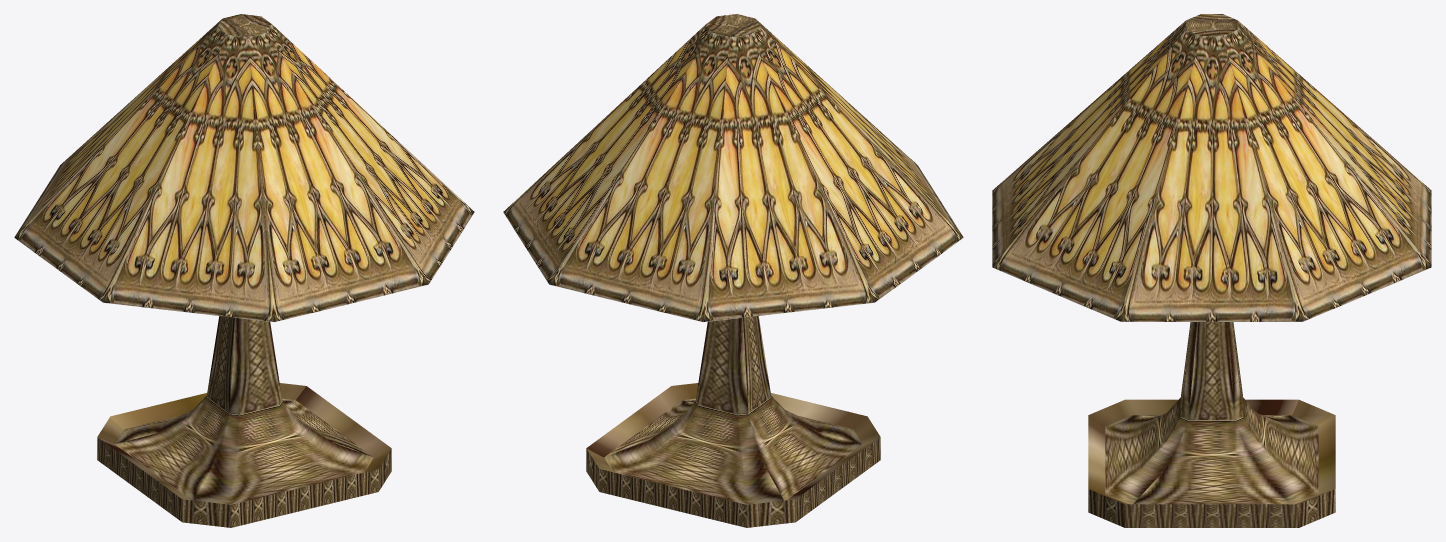
The model's file is desk_lamp_model.fbx.
3 renders of one model, left to right at view 1: azimuth 30°, elevation 25°; view 2: azimuth 150°, elevation 25°; view 3: azimuth 270°, elevation 25°, orthographic. The views are drawn at different scales.
Parts seen in each view (by area): view 1: pCylinder7; view 2: pCylinder7; view 3: pCylinder7.
Boxes of the visible parts, x1,y1,x2,y2 form: pCylinder7: (14, 14, 474, 527); pCylinder7: (503, 14, 963, 527); pCylinder7: (992, 14, 1431, 527).
Size of the model in its own units: 0.0859 by 0.0972 by 0.0859.
